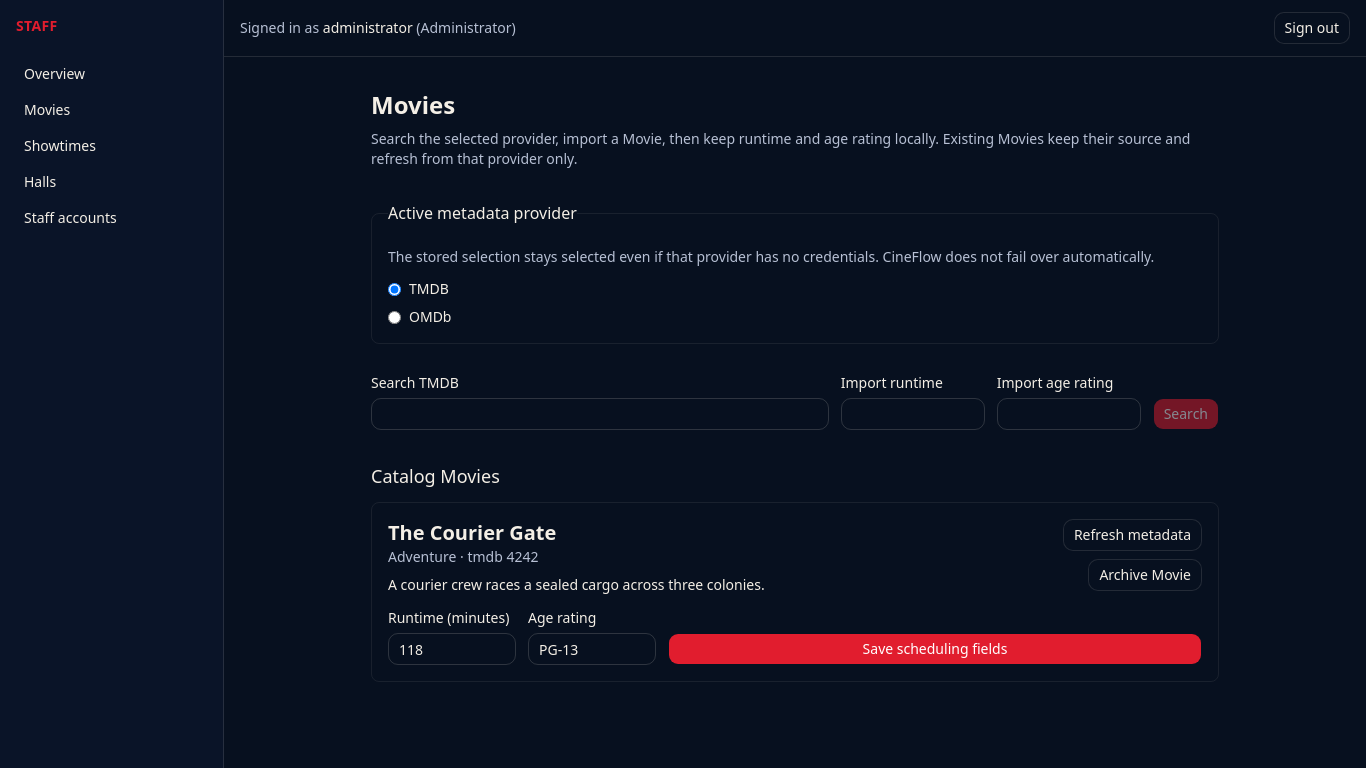
Test case: AdminMoviesPage › lets an Administrator select OMDb without remapping existing Movies
The image size is (1366, 768).
Expected: the element "Active metadata provider" is shown, [371,201,1219,344]
What coordinates should you click on to do the following:
click the radio button labelled "OMDb"
I would click on:
 (394, 317)
Its box is [388,310,401,324].
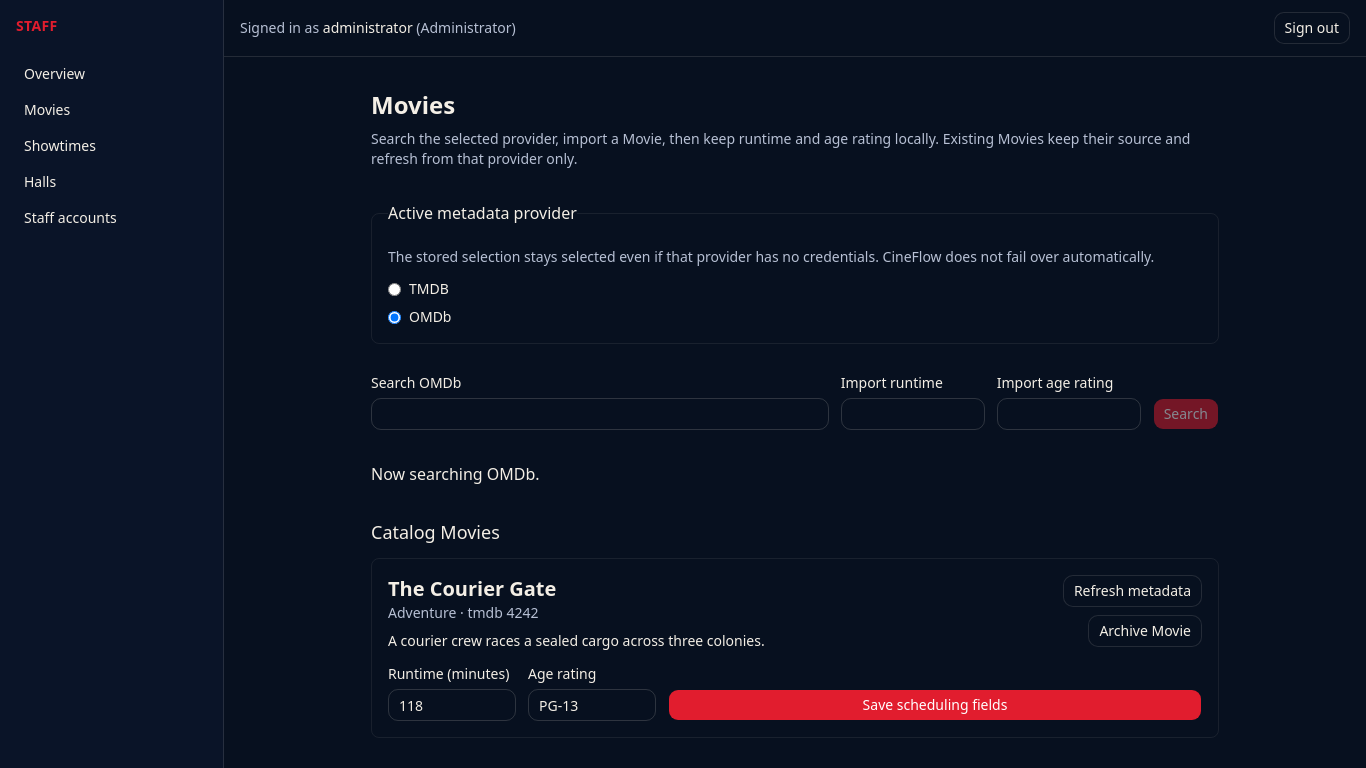
Expected: the field labelled "Search OMDb" is shown, [371,398,829,430]
Expected: the message reads "Now searching OMDb.", [371,463,540,485]
